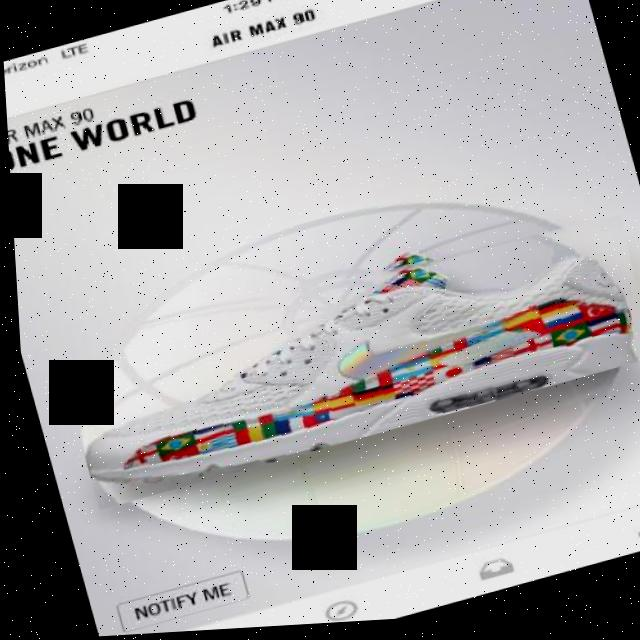shoe: (45, 199, 640, 512)
